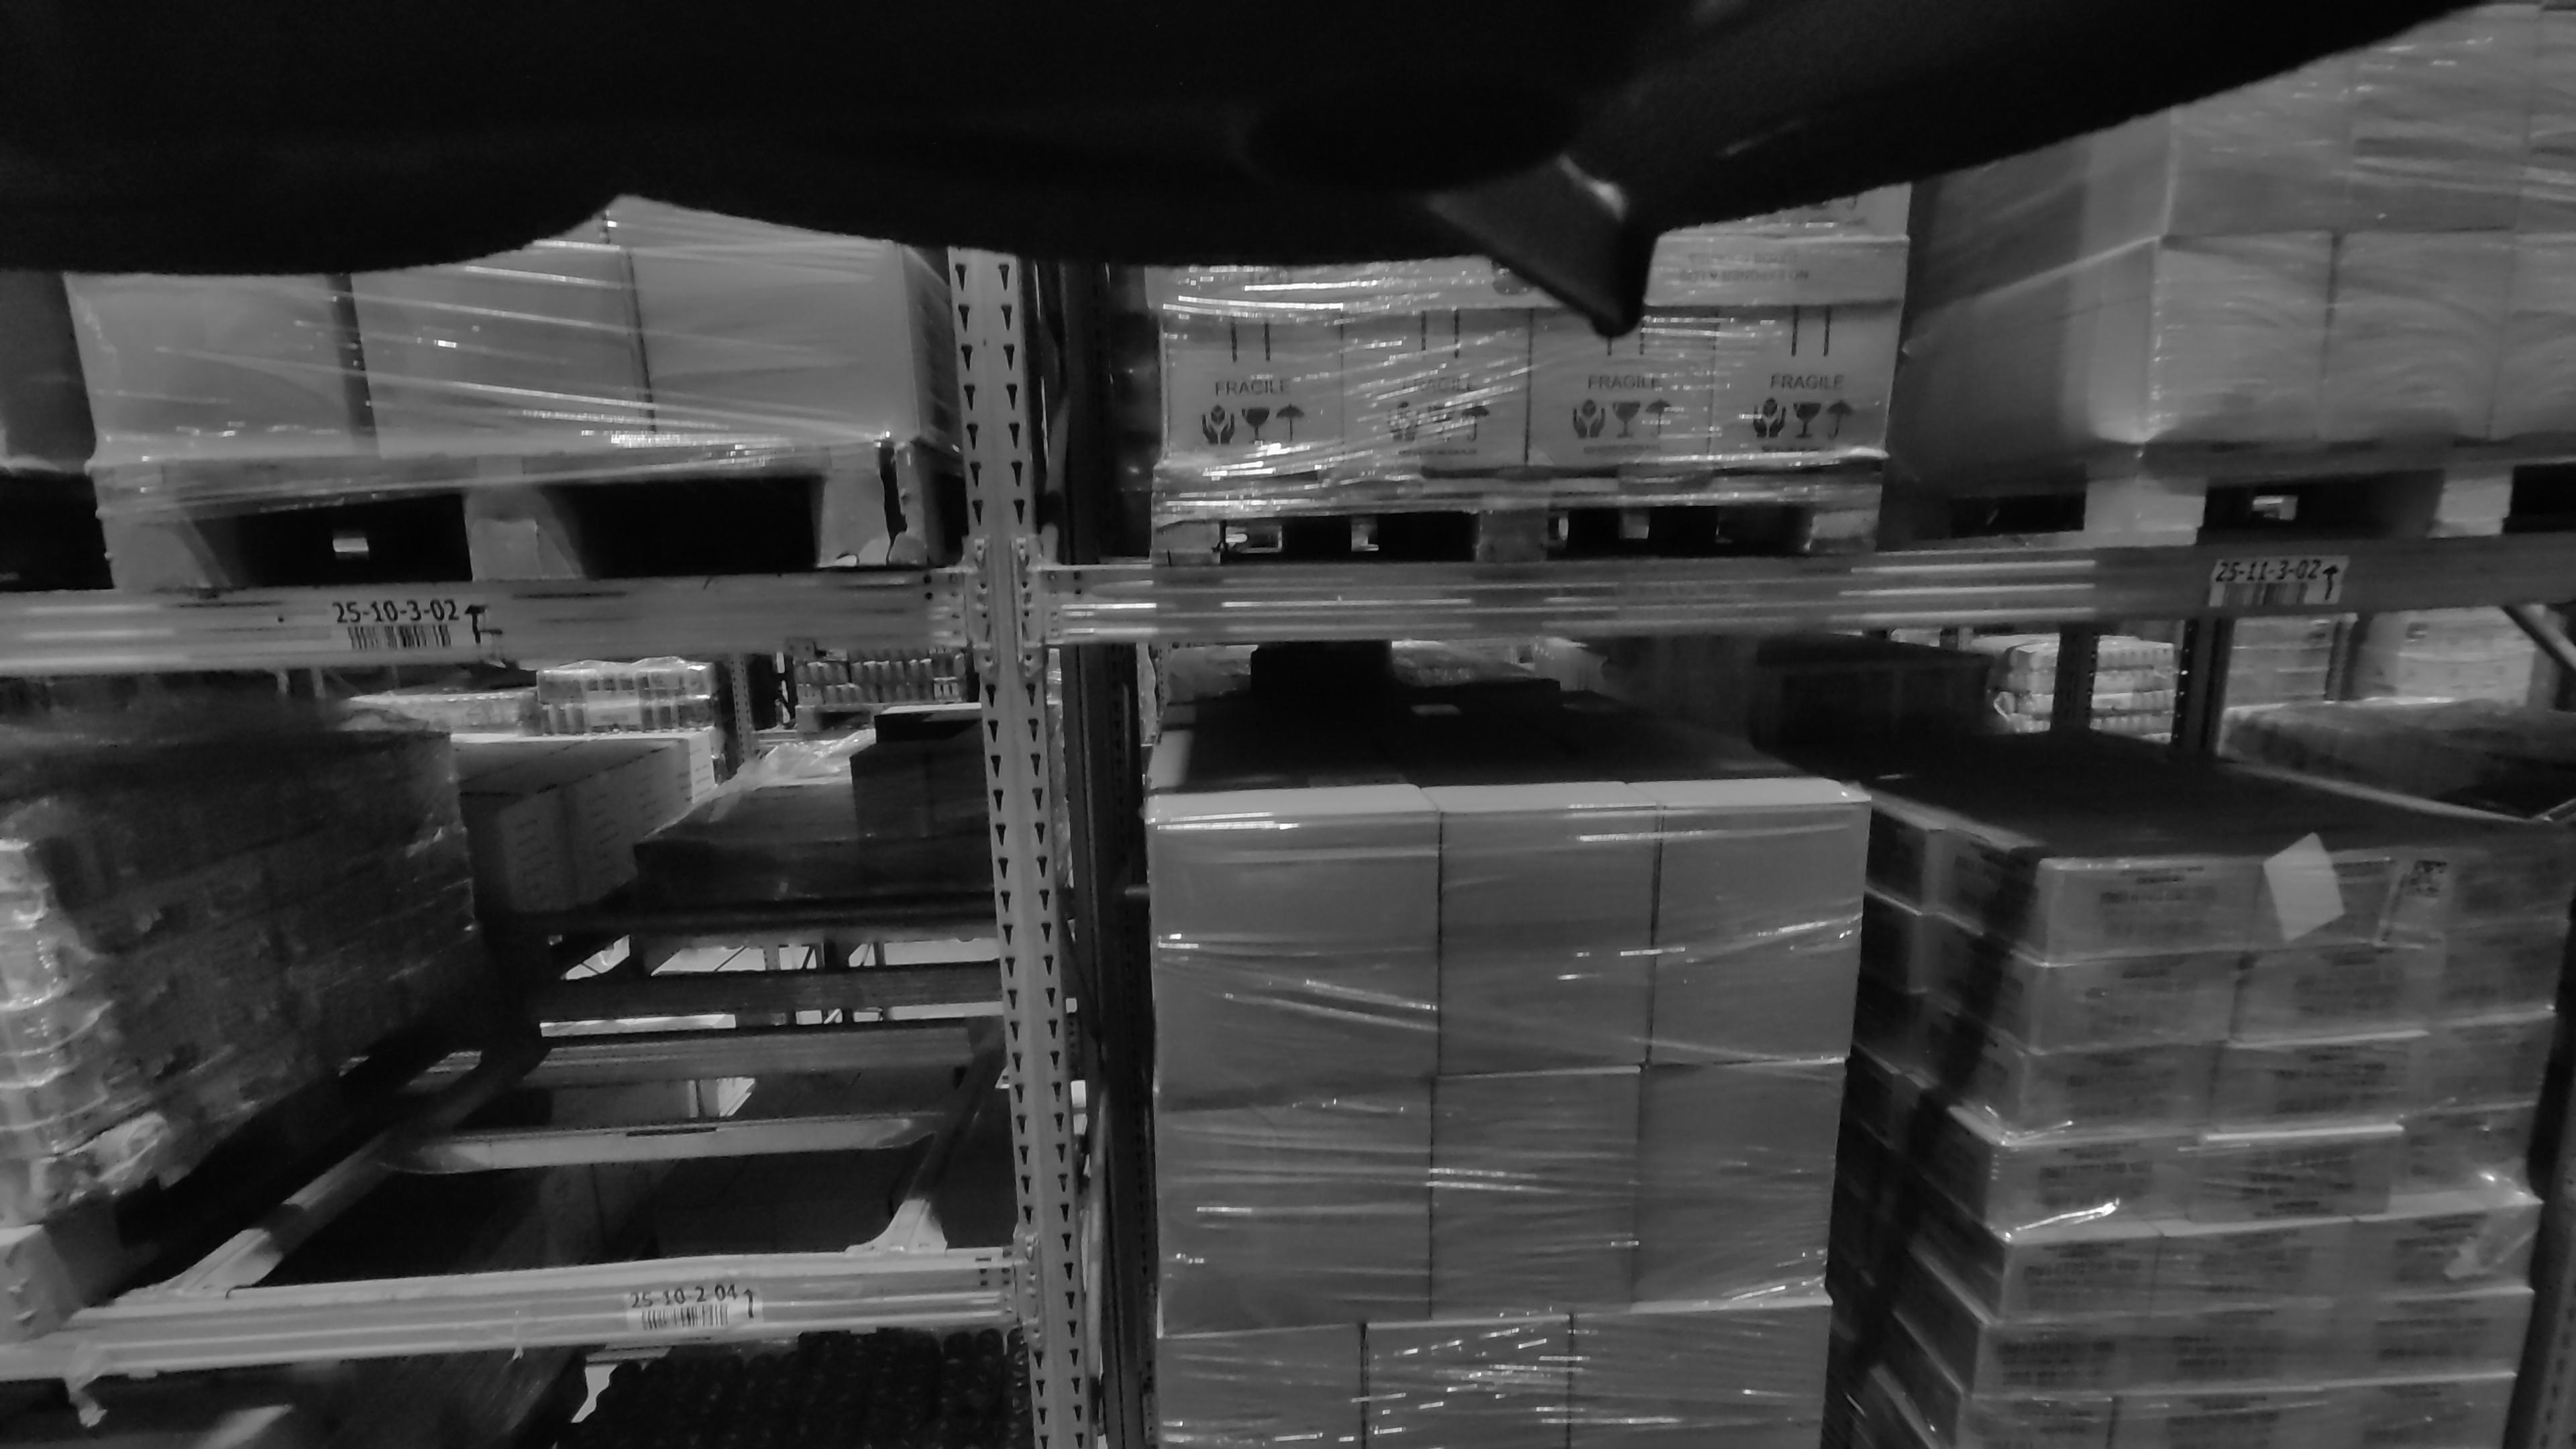empty-shelf: (213, 655, 937, 1259)
